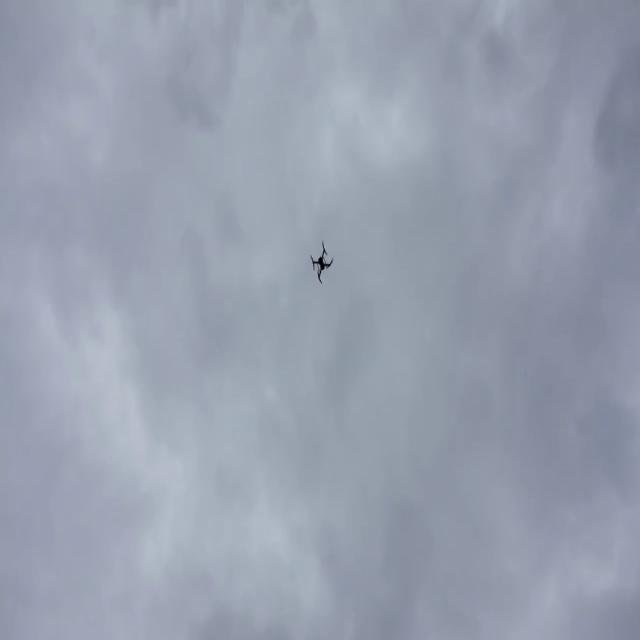drone: (310, 235, 338, 286)
